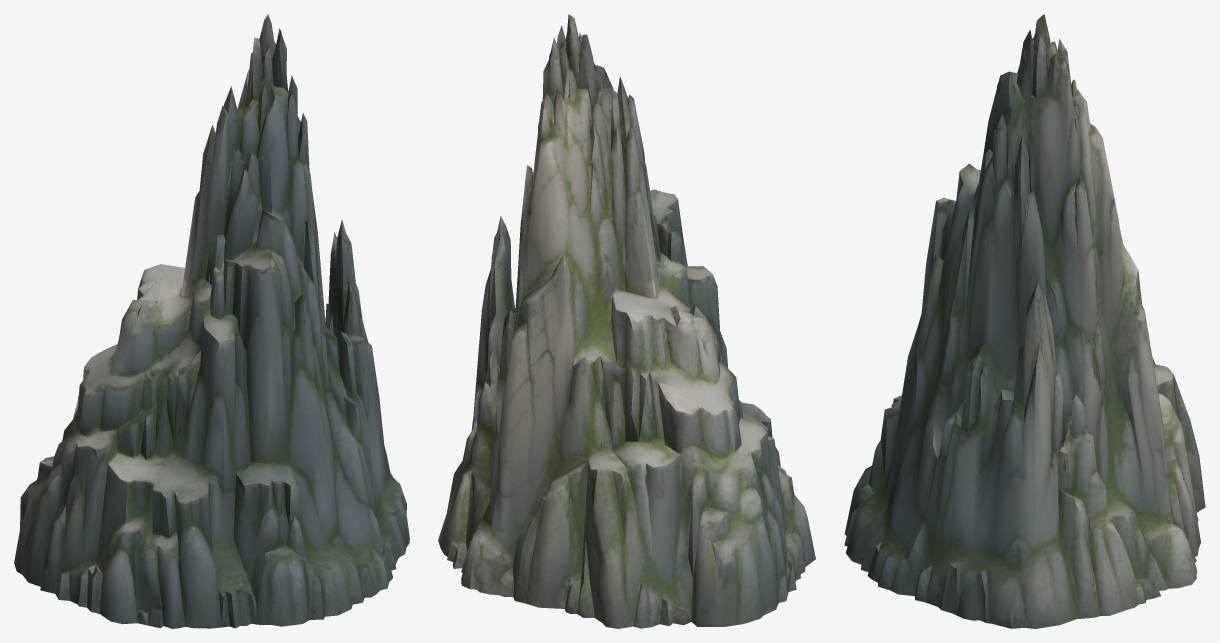
The model's file is GraniteSpire_LOD0.fbx.
3 views of the same model, side by side, from view 1: azimuth 30°, elevation 25°; view 2: azimuth 150°, elevation 25°; view 3: azimuth 270°, elevation 25° (orthographic). The views are drawn at different scales.
Parts seen in each view (by area): view 1: GraniteSpire_LOD0; view 2: GraniteSpire_LOD0; view 3: GraniteSpire_LOD0.
Part boxes in pixels (left/top/right/bottom): GraniteSpire_LOD0: left=14, top=14, right=409, bottom=628; GraniteSpire_LOD0: left=438, top=14, right=815, bottom=628; GraniteSpire_LOD0: left=844, top=14, right=1205, bottom=628.
Size of the model in its own units: 28.92 by 42.11 by 24.91.
1 material, 1 textured.
